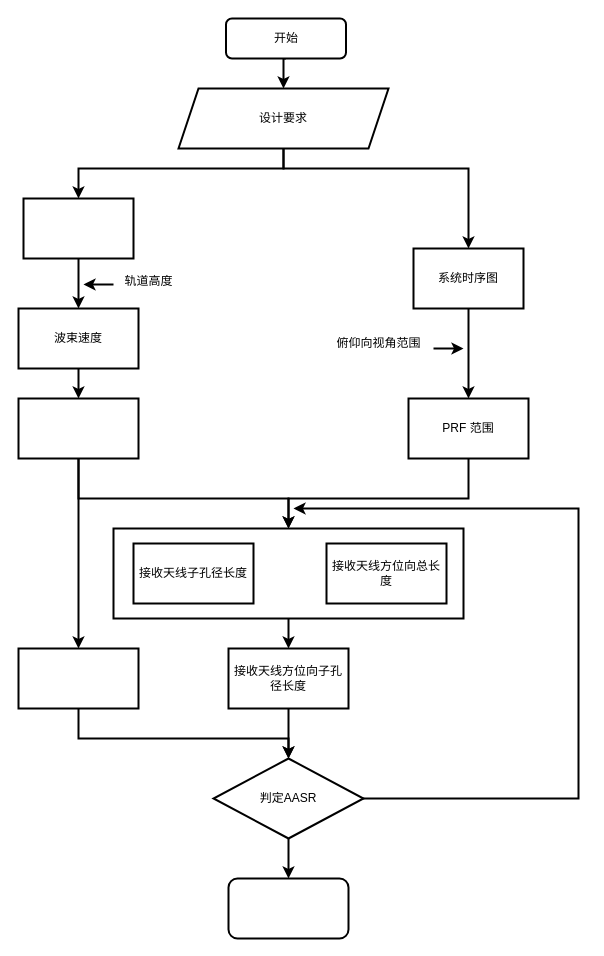
Image size: 604x956. Some labels were removed from this diagram. Here are the shapes that lost their labels. From the top down, the centre of each, then its label:
pixel 78 228: 由轨道高度得出卫星速度
pixel 78 428: 多普勒带宽
pixel 78 678: 发射天线方位向孔径长度
pixel 288 908: 结束
